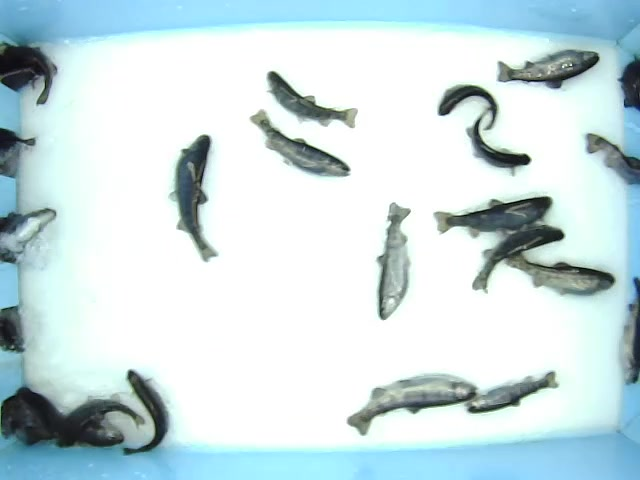fish: (345, 370, 477, 435), (474, 223, 569, 301), (250, 109, 352, 178), (167, 134, 219, 265), (266, 69, 359, 131), (503, 248, 616, 297), (430, 194, 552, 238), (374, 201, 419, 319), (464, 107, 532, 176), (495, 49, 603, 90), (465, 371, 561, 417), (119, 368, 170, 453), (433, 85, 498, 130), (49, 419, 124, 448)
